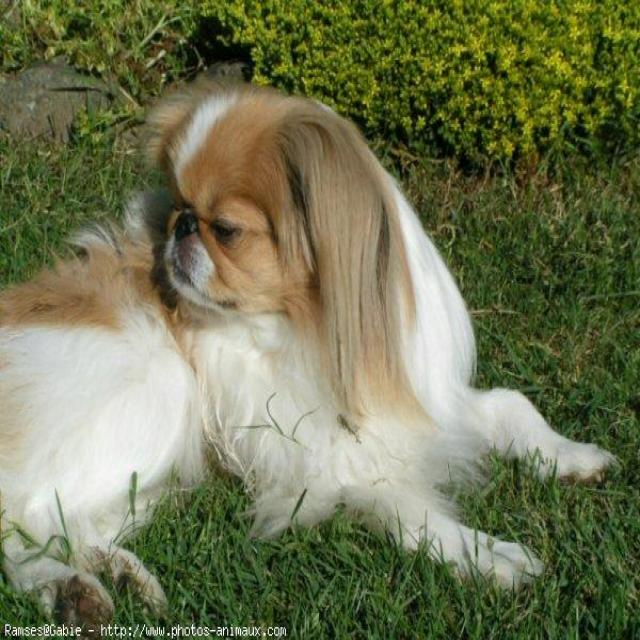husky: (0, 81, 621, 637)
